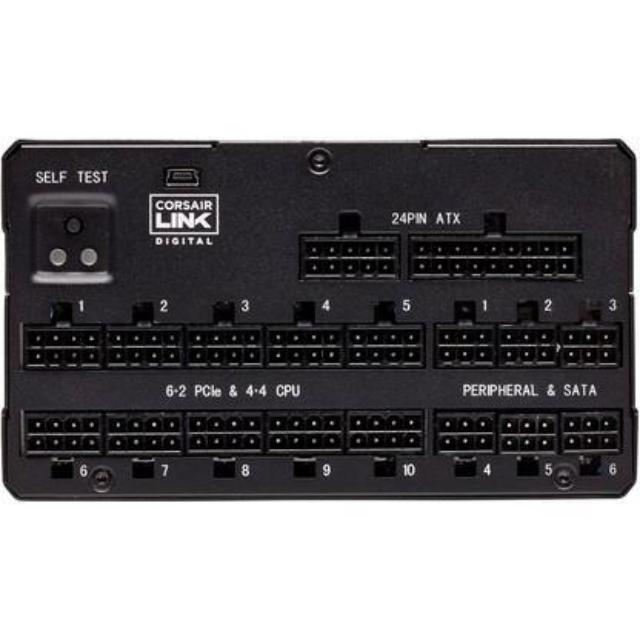PSU: (0, 130, 640, 512)
